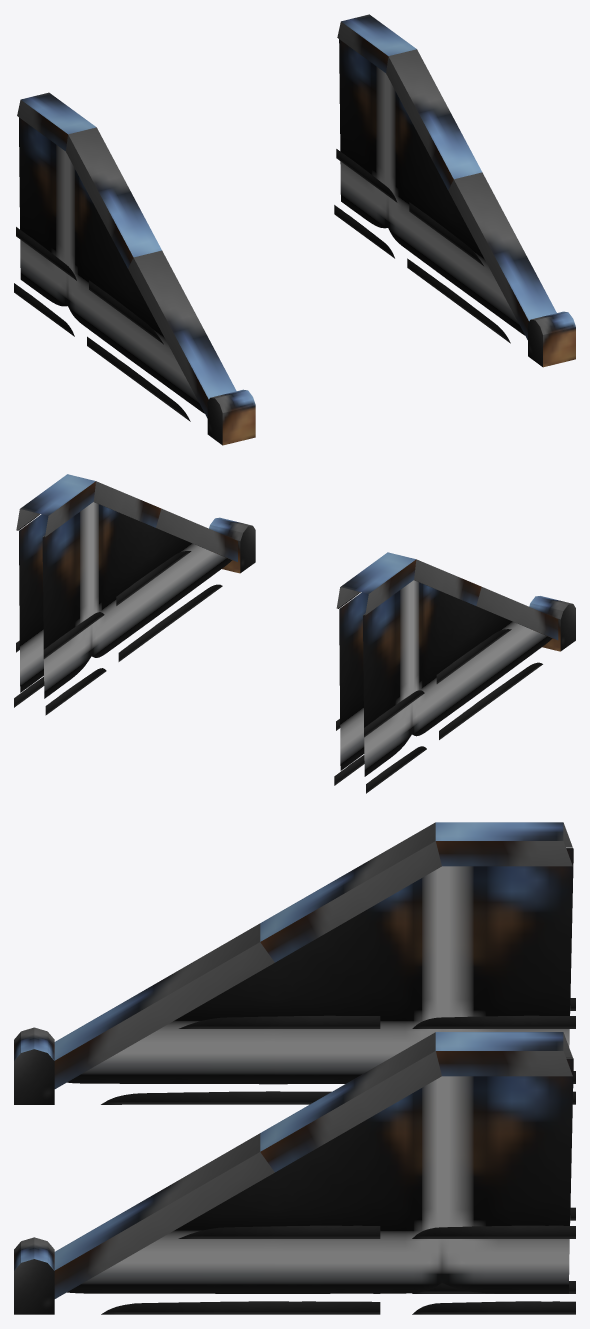
Rendered from cs_lobbynew02_Terrains_02_lt01.FBX.
3 renders of one model, top to bottom at view 1: azimuth 30°, elevation 25°; view 2: azimuth 150°, elevation 25°; view 3: azimuth 270°, elevation 25°, orthographic. The views are drawn at different scales.
Parts seen in each view (by area): view 1: cs_lobbynew02_Terrains_02_lt01; view 2: cs_lobbynew02_Terrains_02_lt01; view 3: cs_lobbynew02_Terrains_02_lt01.
Boxes of the visible parts, box(x1,y1,x2,y2) form: cs_lobbynew02_Terrains_02_lt01: box(14, 14, 575, 445); cs_lobbynew02_Terrains_02_lt01: box(14, 474, 575, 793); cs_lobbynew02_Terrains_02_lt01: box(14, 822, 575, 1314).
Size of the model in its own units: 395 by 209 by 406.
